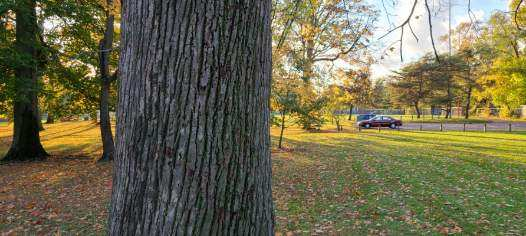tree: (107, 1, 280, 236), (6, 1, 53, 158), (275, 63, 309, 150), (98, 1, 115, 162)
